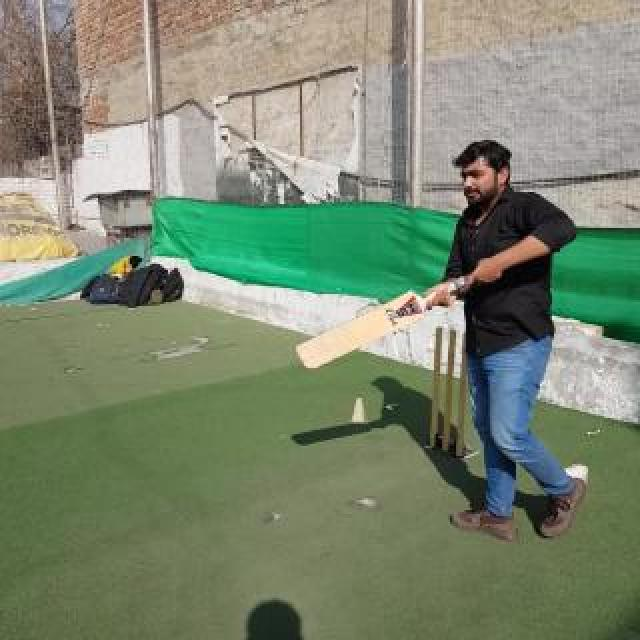bat: (296, 277, 466, 369)
